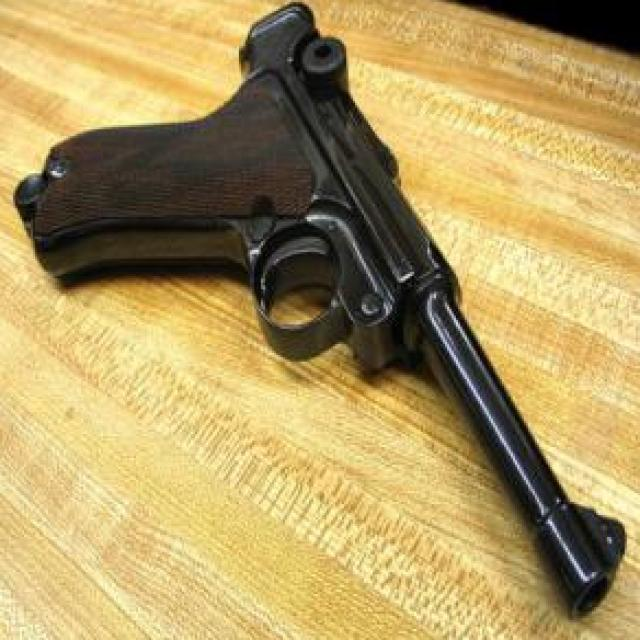pistol: (13, 0, 620, 618)
